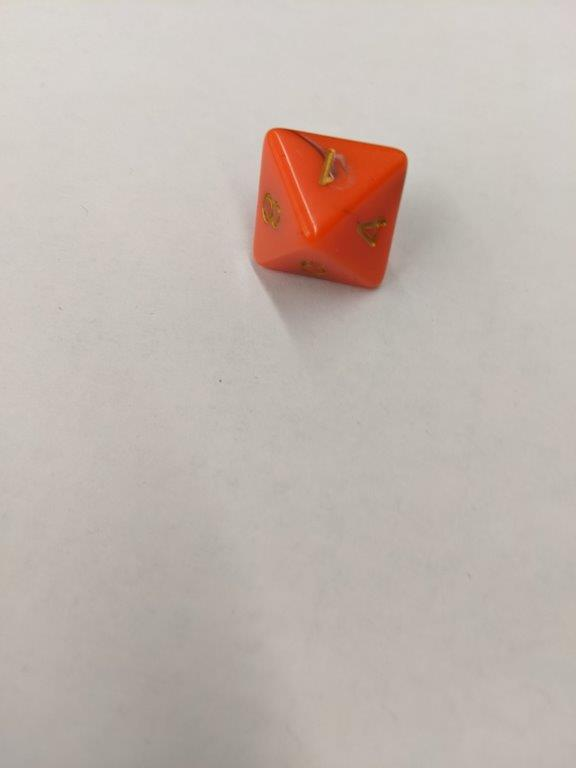d8-1: (253, 126, 407, 290)
